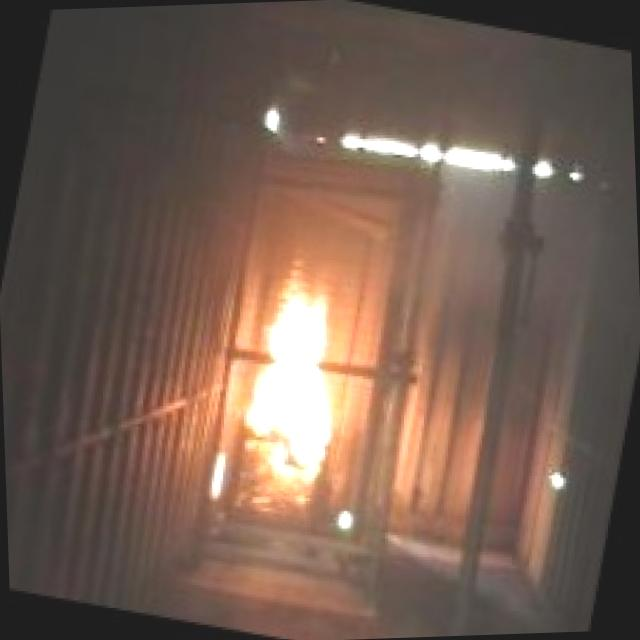fire: (229, 244, 384, 517)
